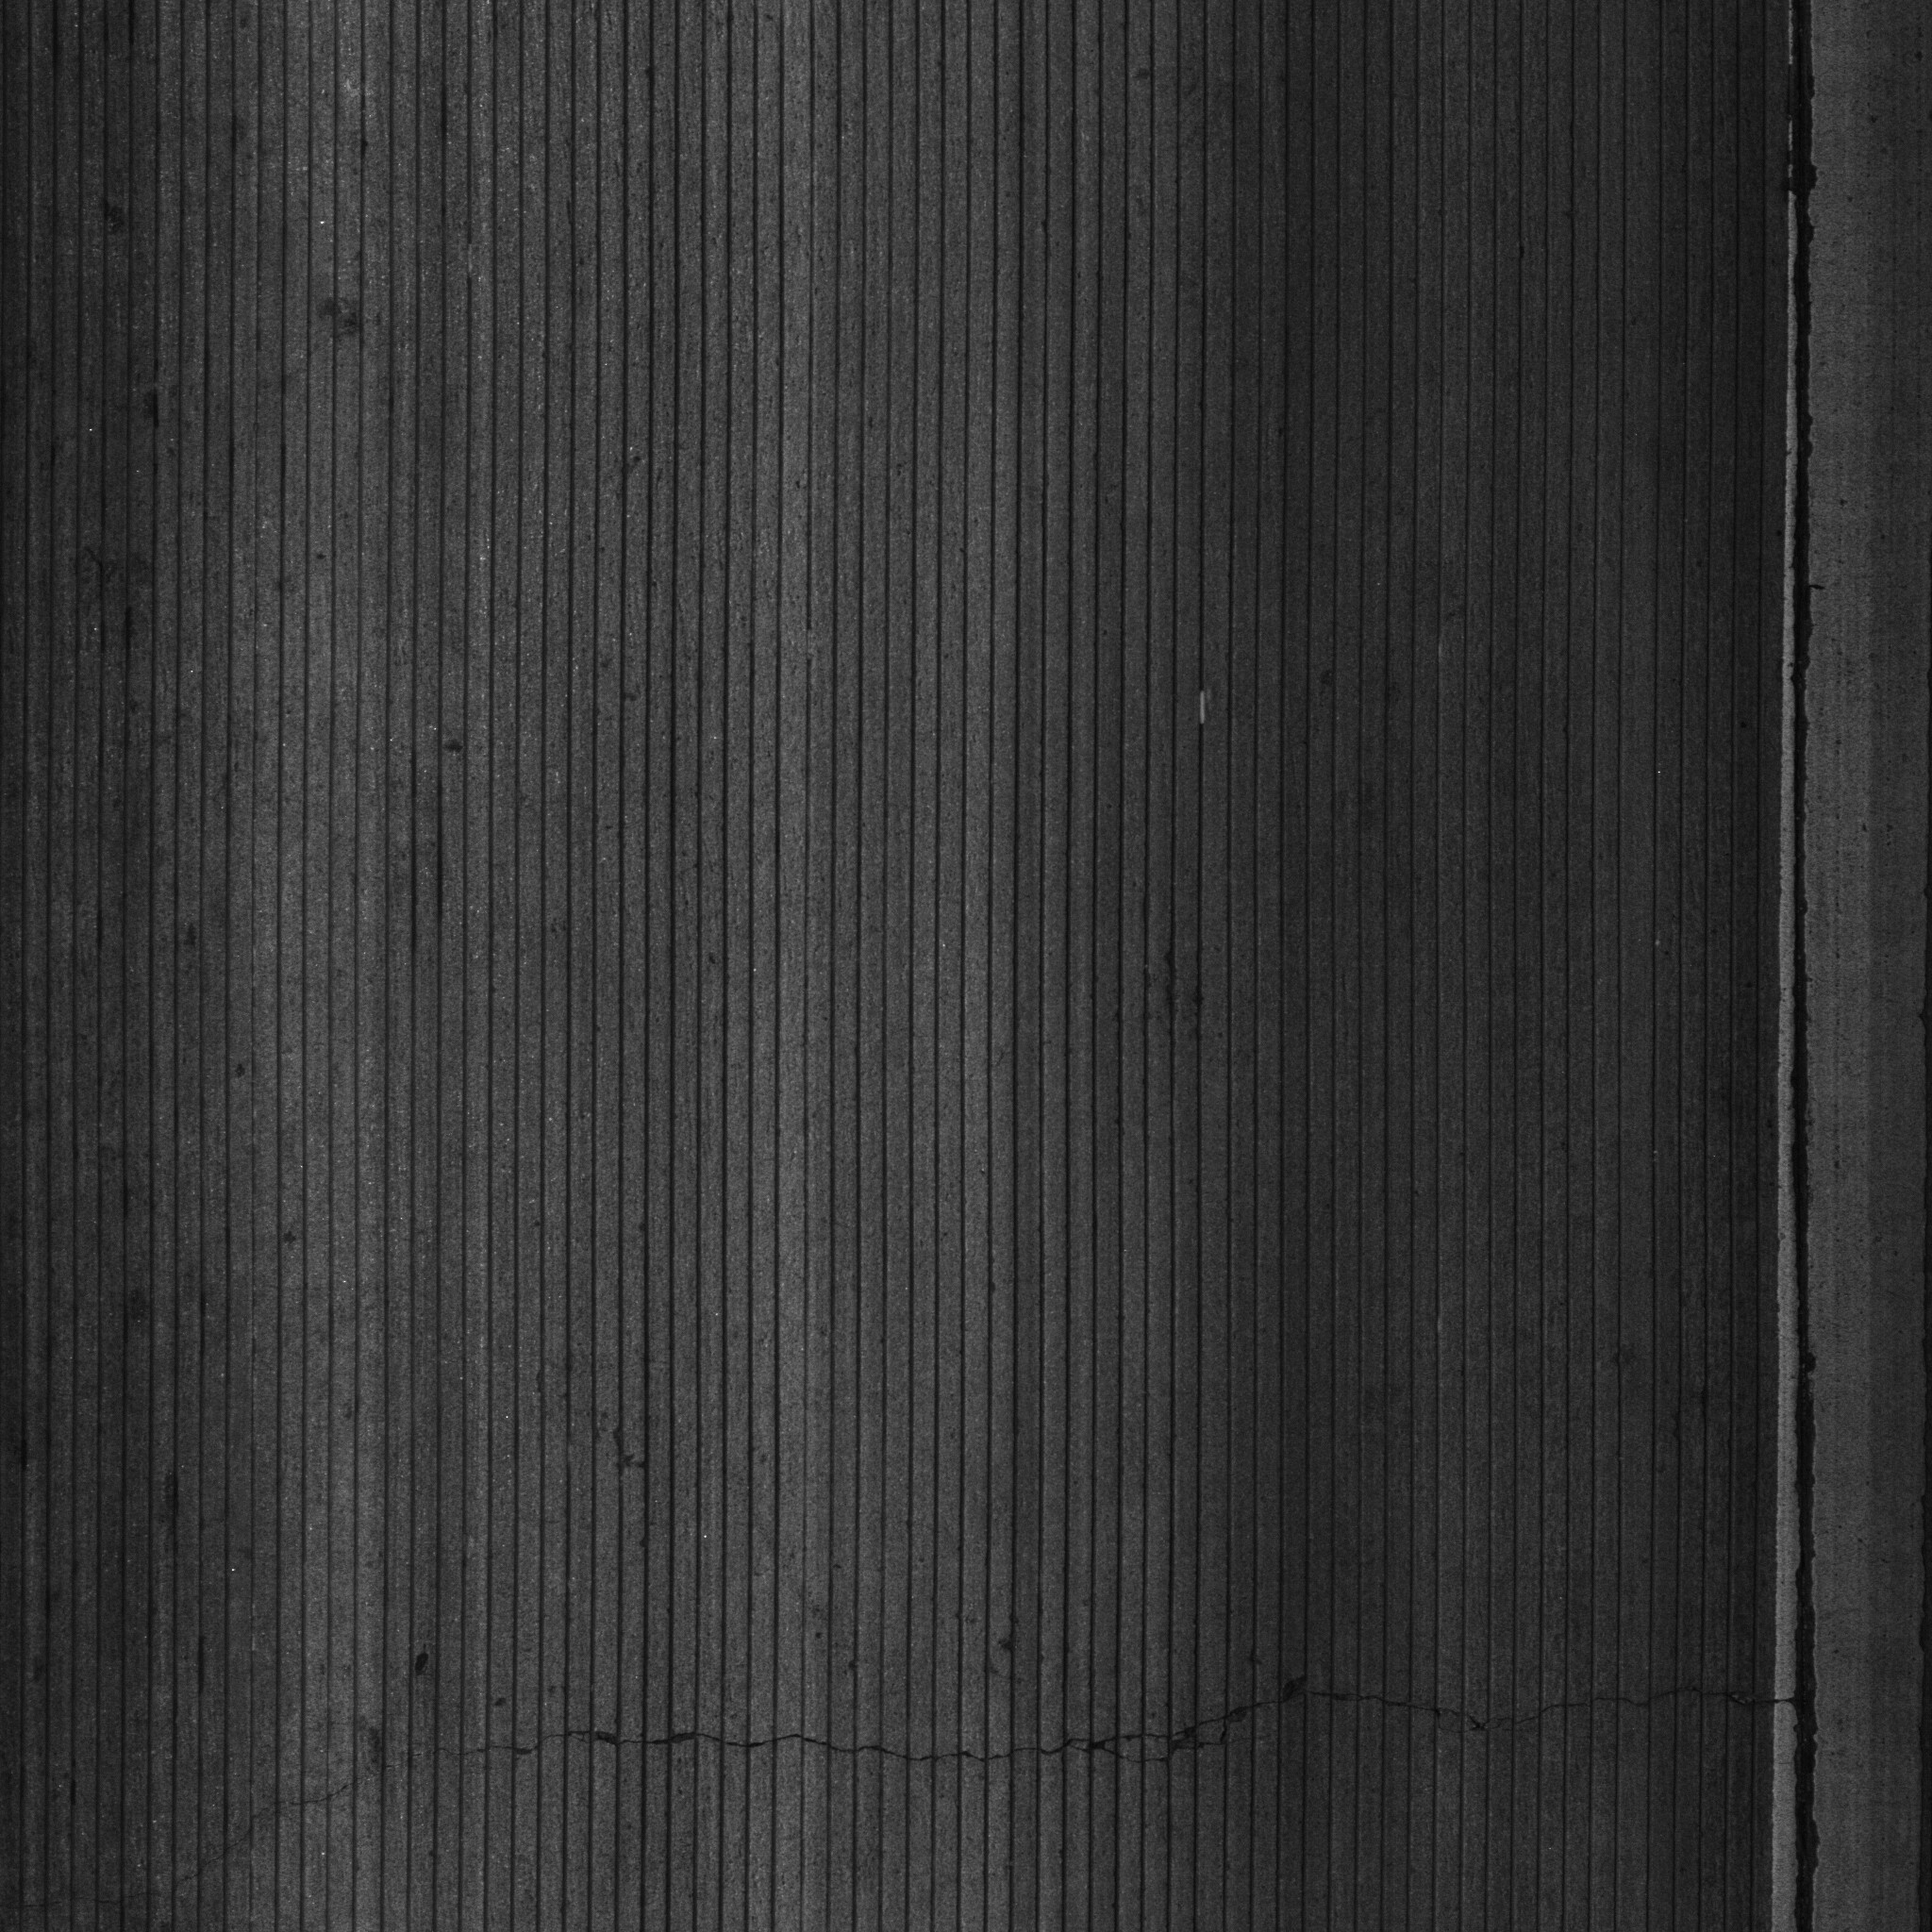transverse: (69, 1668, 1813, 1909)
